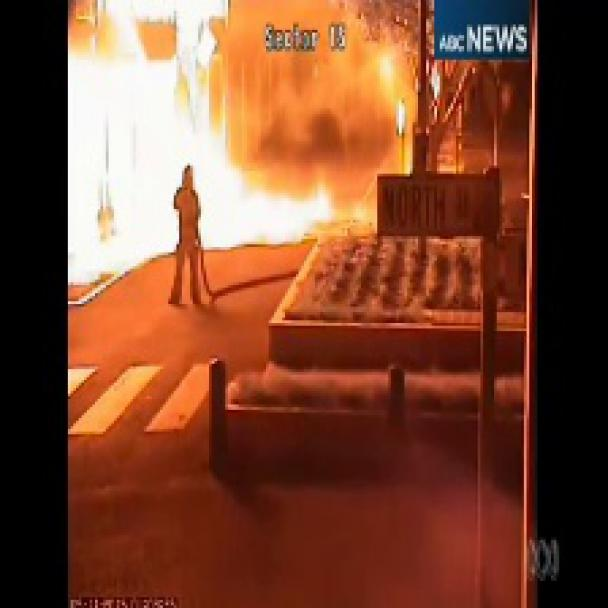Fire: (70, 0, 508, 606)
